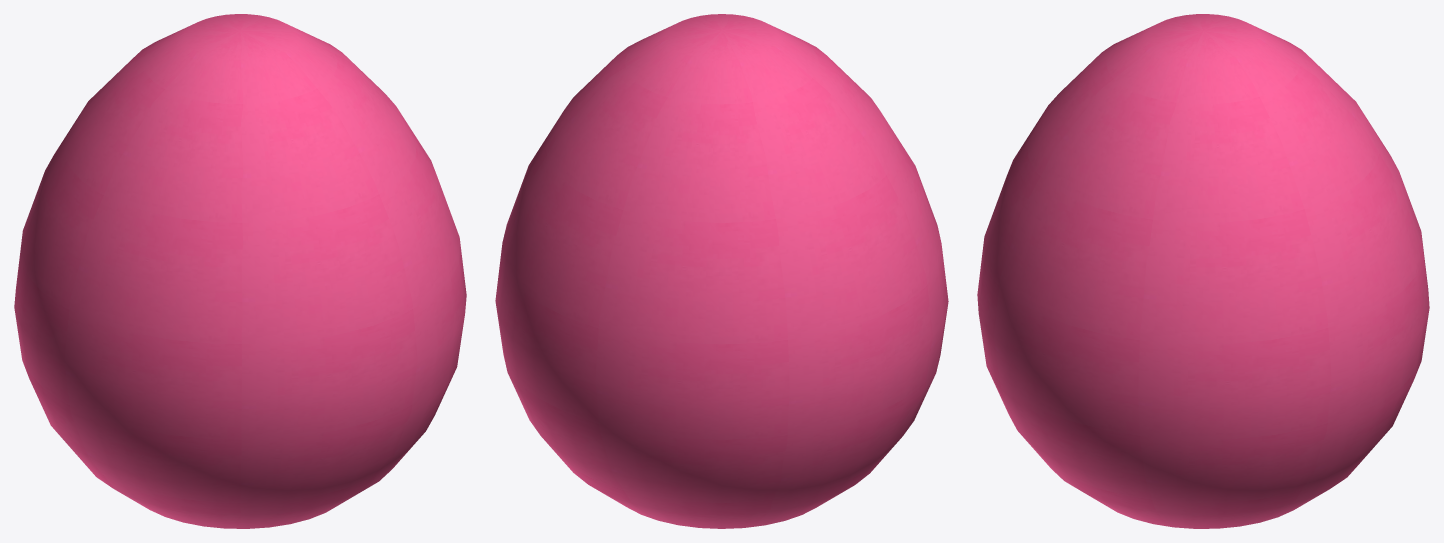
File: Pink Egg.gltf
The picture shows the model from 3 angles, left to right: view 1: azimuth 30°, elevation 25°; view 2: azimuth 150°, elevation 25°; view 3: azimuth 270°, elevation 25°; orthographic projection.
Visible parts, largest first — view 1: EGG; view 2: EGG; view 3: EGG.
Part boxes in pixels (x1,y1,x2,y2): EGG: [14, 14, 466, 528]; EGG: [495, 14, 948, 528]; EGG: [977, 14, 1429, 528].
Bounding box in the file's own units: 1.55 × 1.8 × 1.55.
1 material, 1 textured.
